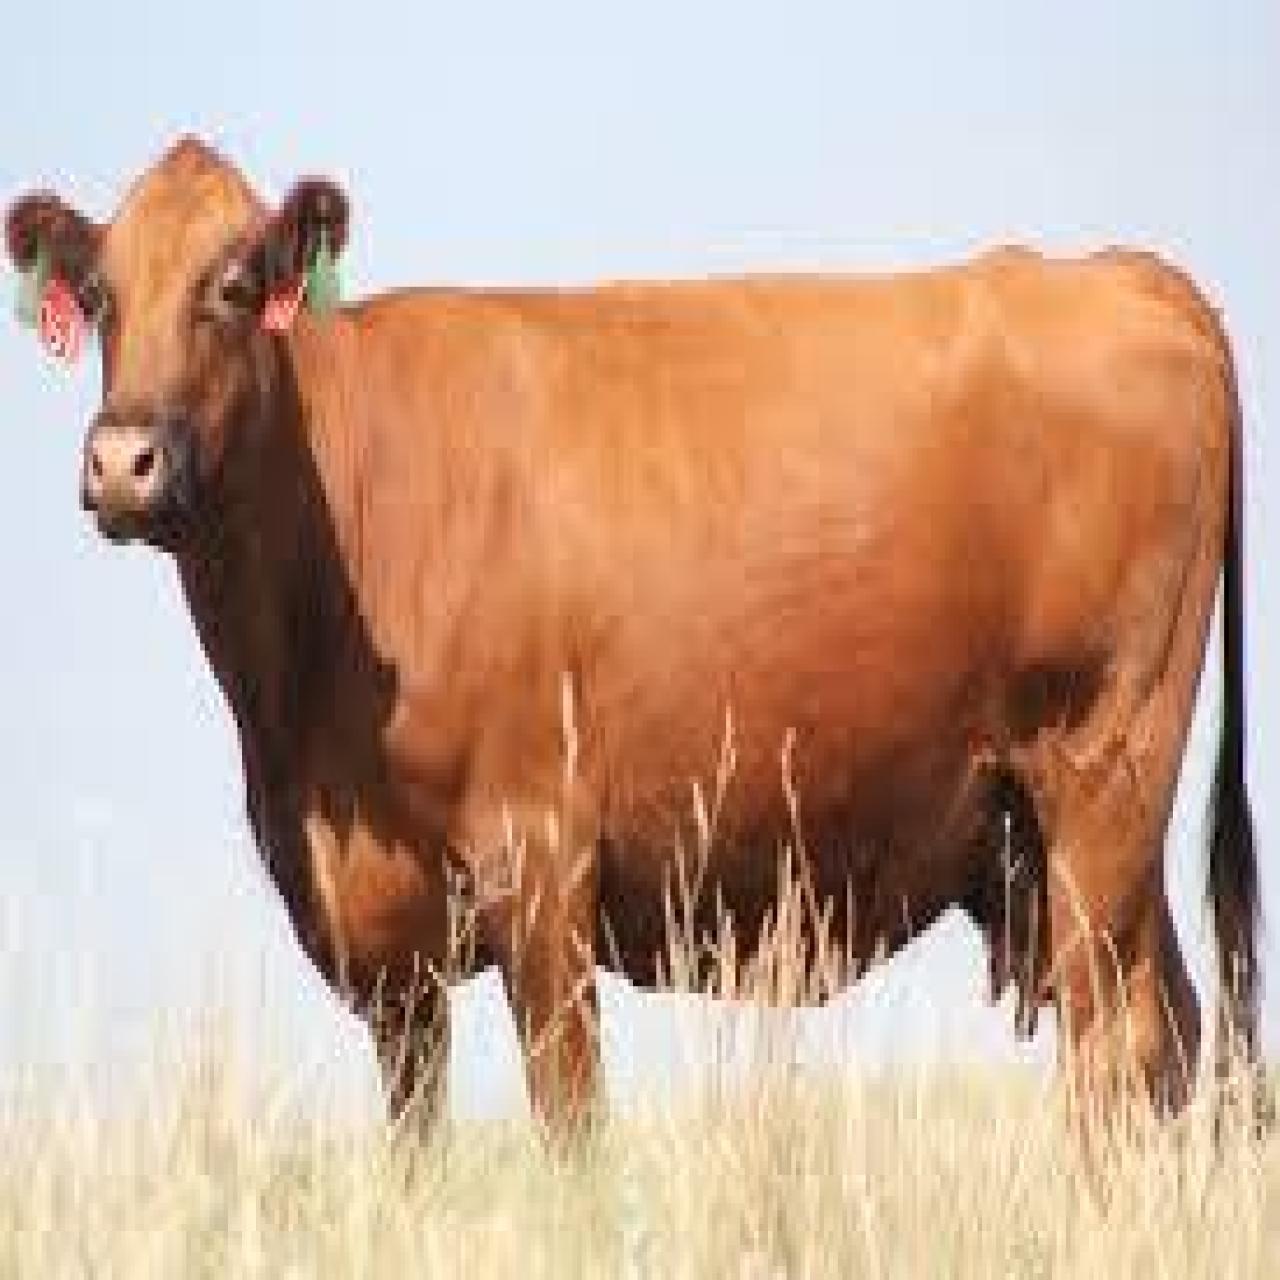cow: (5, 132, 1257, 1155)
